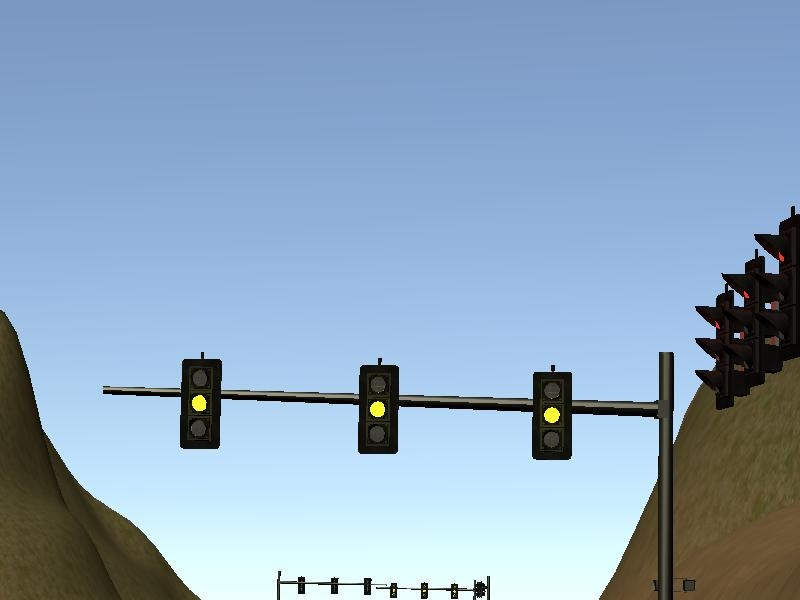YELLOW: (528, 367, 573, 461), (356, 362, 401, 456), (177, 357, 222, 451)
